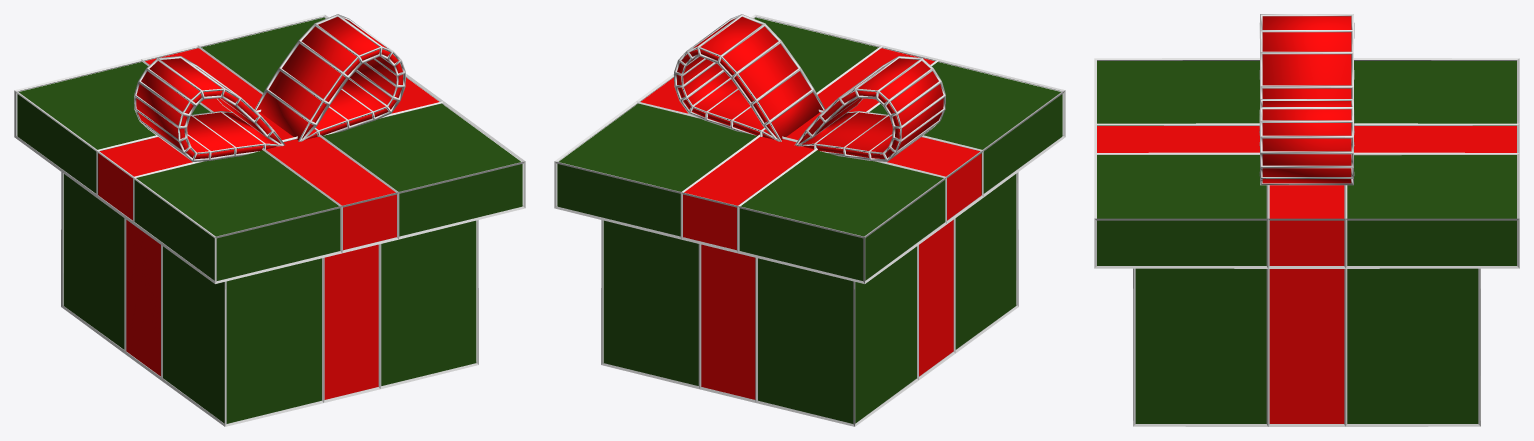
The model's file is REGALO 6.fbx.
3 renders of one model, left to right at view 1: azimuth 30°, elevation 25°; view 2: azimuth 150°, elevation 25°; view 3: azimuth 270°, elevation 25°, orthographic. The views are drawn at different scales.
Visible parts, largest first — view 1: Regalo.002; view 2: Regalo.002; view 3: Regalo.002.
Boxes of the visible parts, x1=… form: Regalo.002: x1=14, y1=14, x2=525, y2=426; Regalo.002: x1=554, y1=14, x2=1065, y2=426; Regalo.002: x1=1094, y1=14, x2=1519, y2=426.
Bounding box in the file's own units: 806 × 704 × 902.
